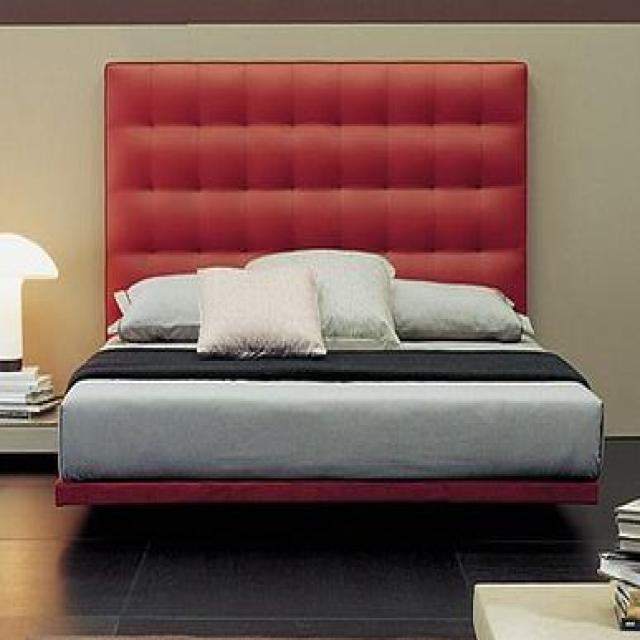bed: (51, 58, 604, 507)
